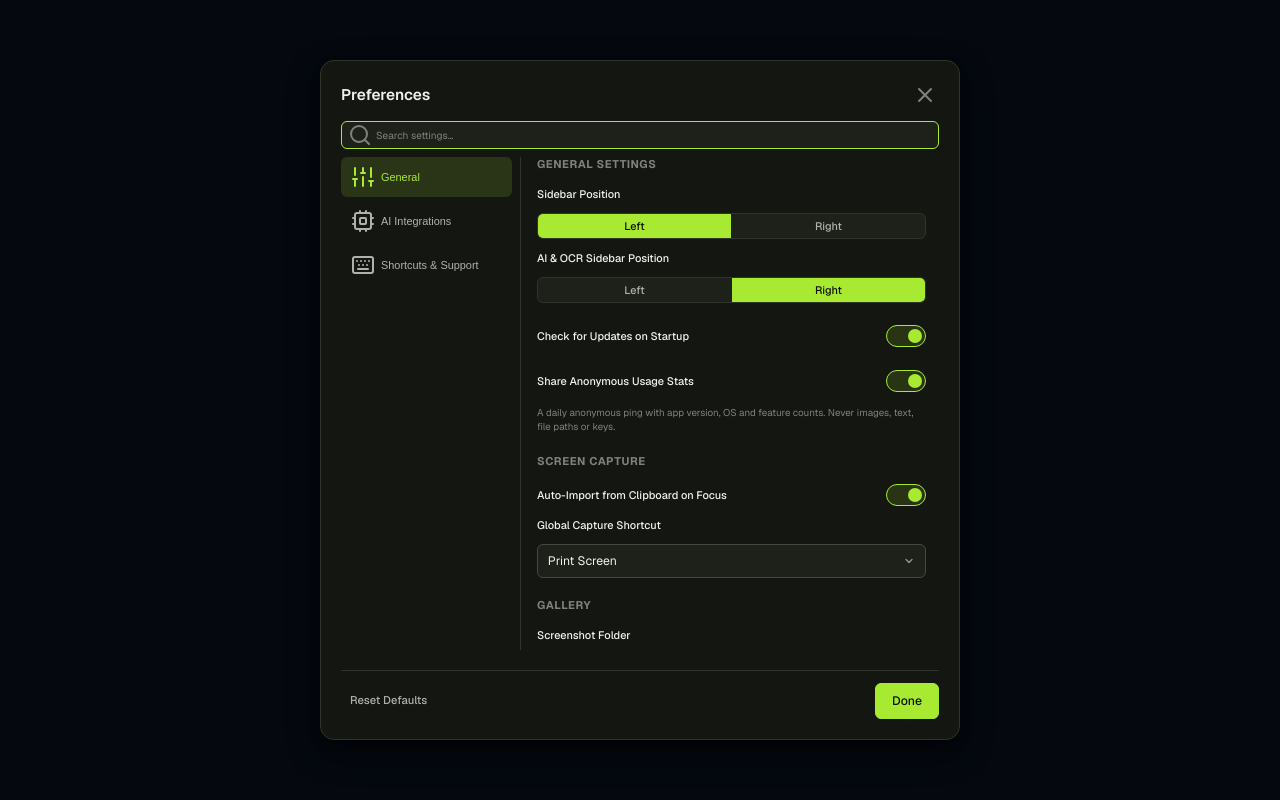
Test: SettingsModal › displays keyboard shortcuts
Click the button "Shortcuts & Support" at point(426, 265), box [341,245,512,285]
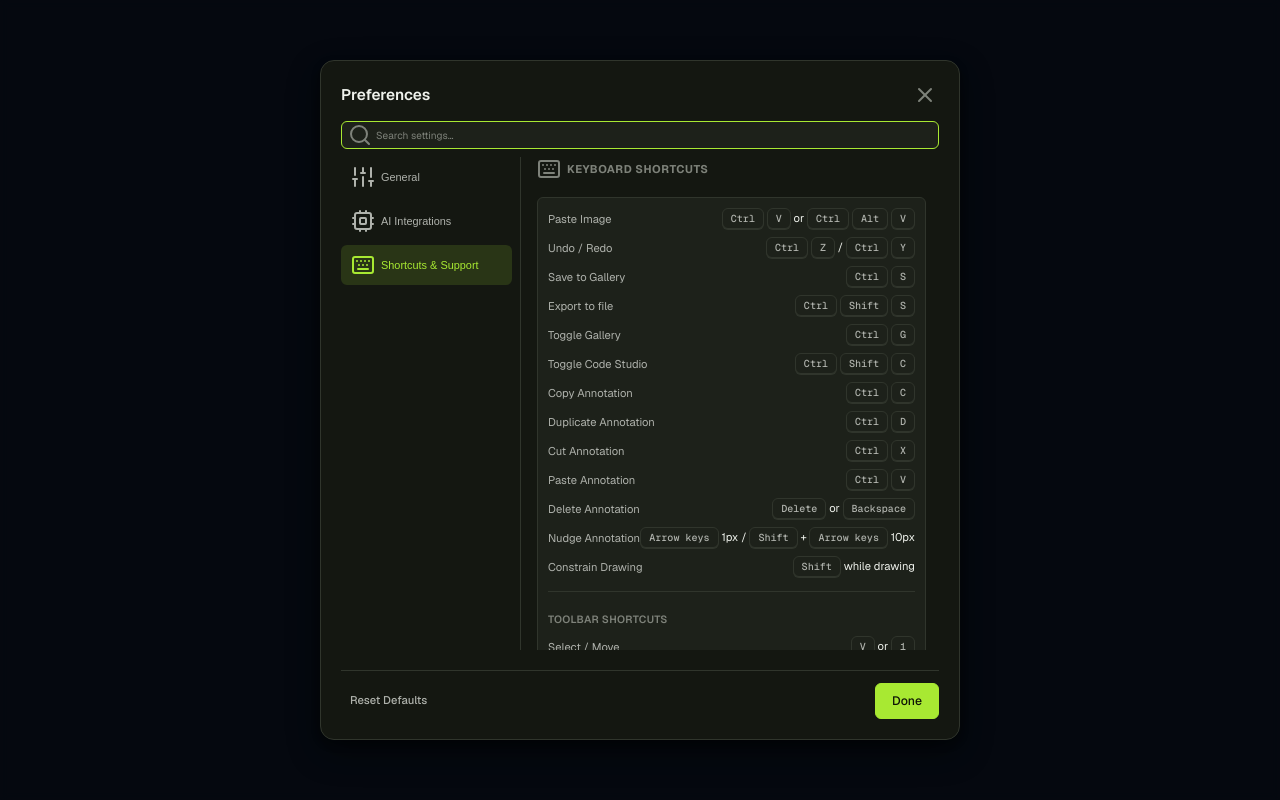
Now the text "Paste Image" is shown, box [548,212,612,226]
Now the text "Undo / Redo" is shown, box [548,240,612,254]
Now the text "Save to Gallery" is shown, box [548,270,625,284]
